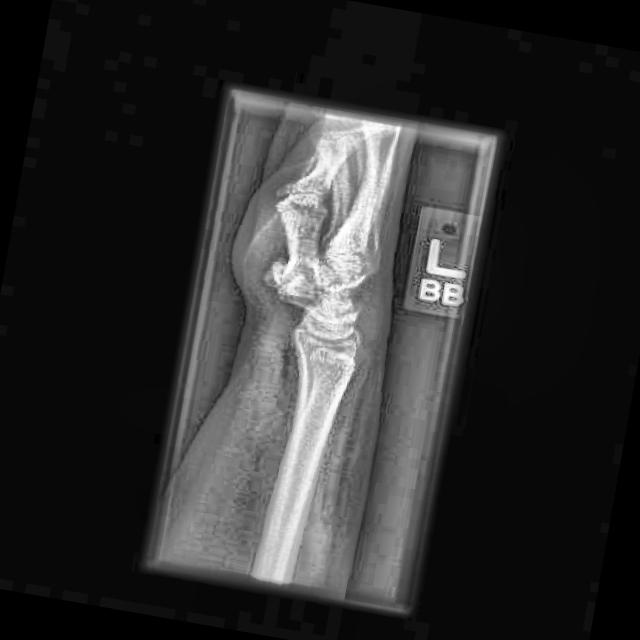wrist positive: (256, 252, 341, 320), (324, 293, 374, 331)
